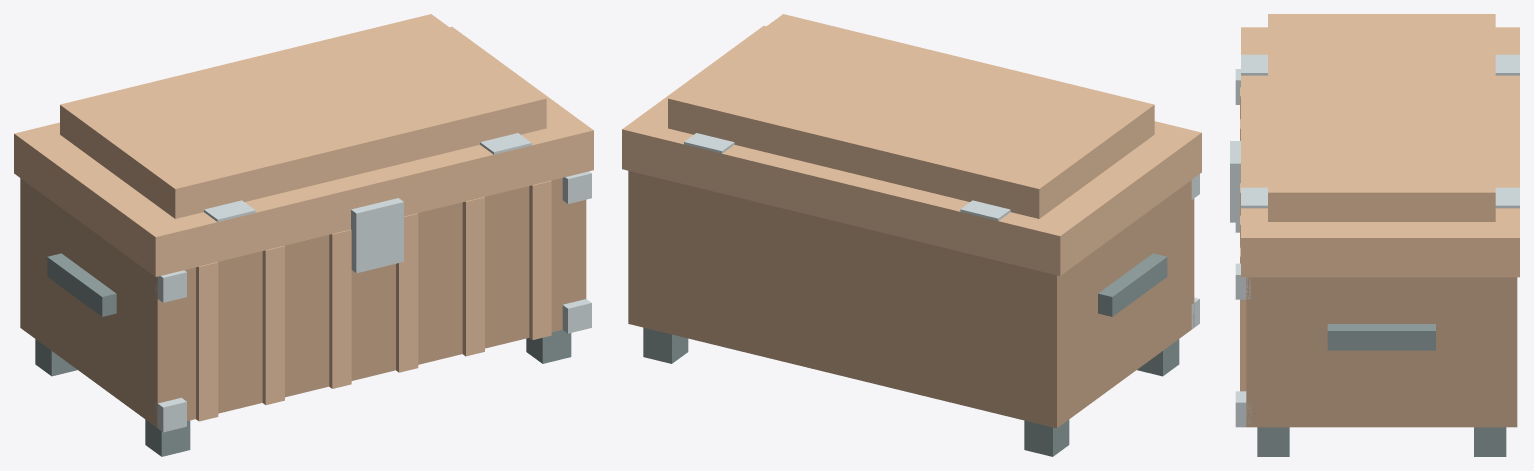
File: trunkSteamer.glb
3 views of the same model, side by side, from view 1: azimuth 30°, elevation 25°; view 2: azimuth 150°, elevation 25°; view 3: azimuth 270°, elevation 25° (orthographic).
Visible parts, largest first — view 1: anim:lid, trunkSteamer; view 2: anim:lid, trunkSteamer; view 3: anim:lid, trunkSteamer.
Boxes of the visible parts, x1=… form: anim:lid: x1=14, y1=14, x2=593, y2=276; trunkSteamer: x1=20, y1=171, x2=591, y2=456; anim:lid: x1=622, y1=14, x2=1201, y2=275; trunkSteamer: x1=628, y1=171, x2=1199, y2=456; anim:lid: x1=1230, y1=14, x2=1519, y2=277; trunkSteamer: x1=1235, y1=69, x2=1517, y2=456.
Bounding box in the file's own units: 0.48 × 0.26 × 0.2675.
